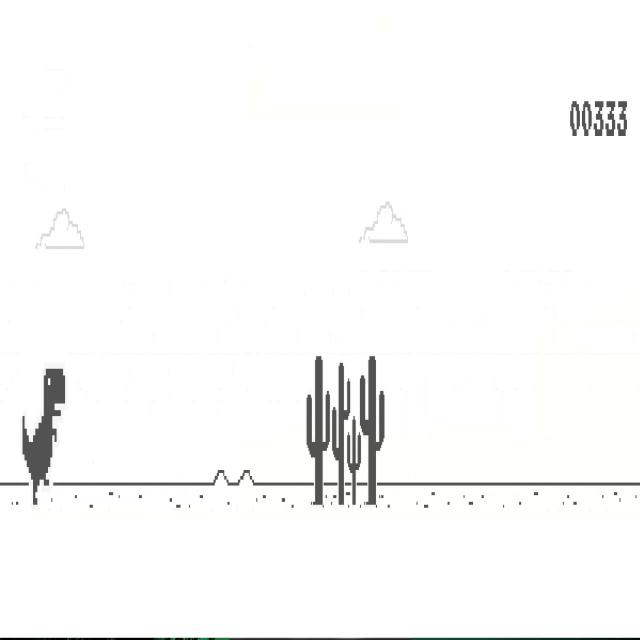cacto: (359, 354, 385, 507), (306, 355, 331, 507), (332, 361, 351, 507), (346, 415, 362, 507)
dino: (21, 364, 66, 507)
